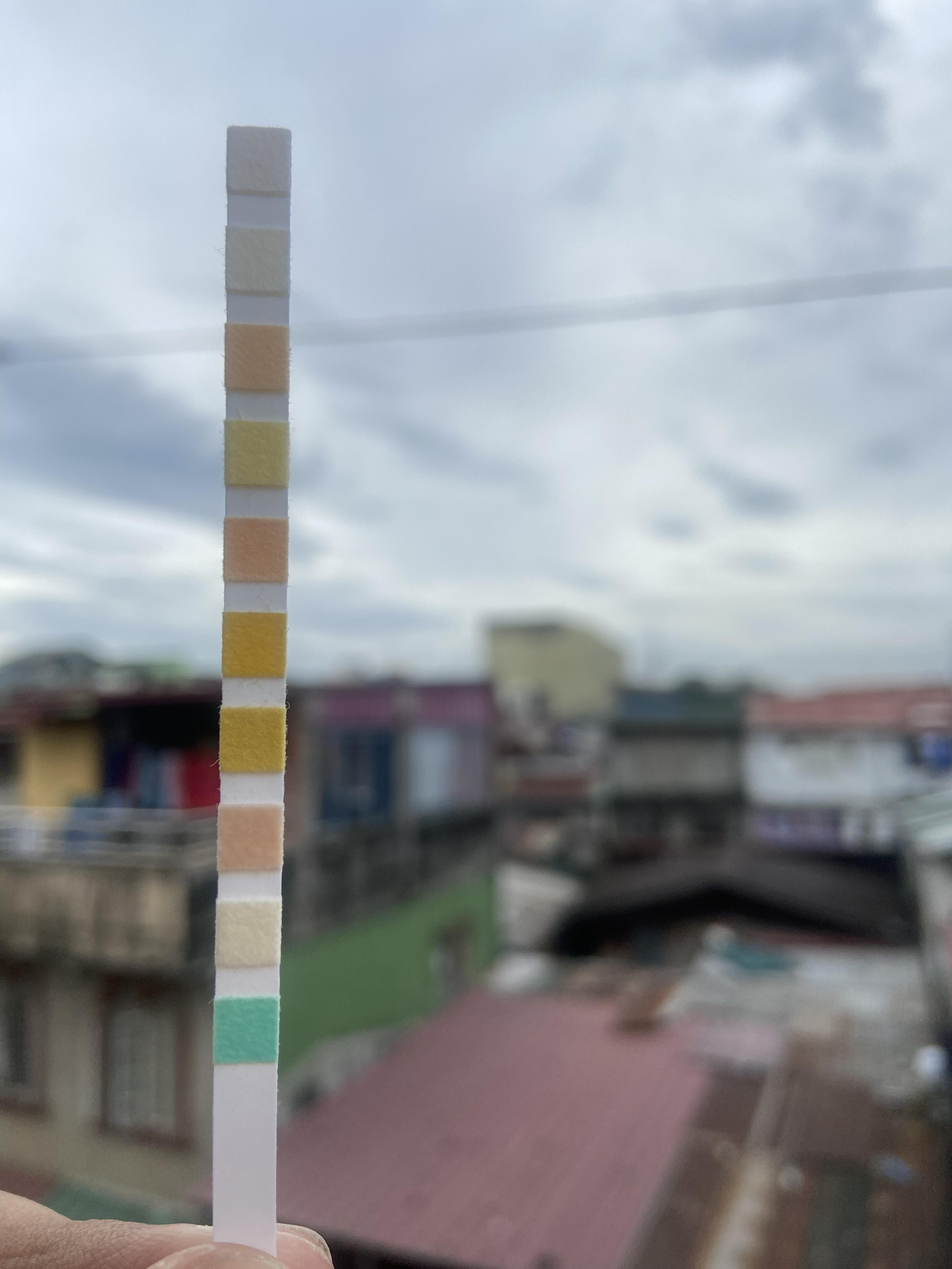Bilirubin: (218, 905, 279, 964)
Blood: (225, 616, 285, 678)
Glucose: (216, 1004, 275, 1062)
Ketone: (220, 810, 282, 869)
Leukocytes: (229, 132, 290, 190)
Nitrite: (226, 230, 289, 291)
Protein: (229, 425, 286, 485)
SpGravity: (221, 709, 282, 772)
Urobilinogen: (227, 326, 288, 389)
pH: (225, 522, 286, 582)
strip: (213, 127, 291, 1234)
